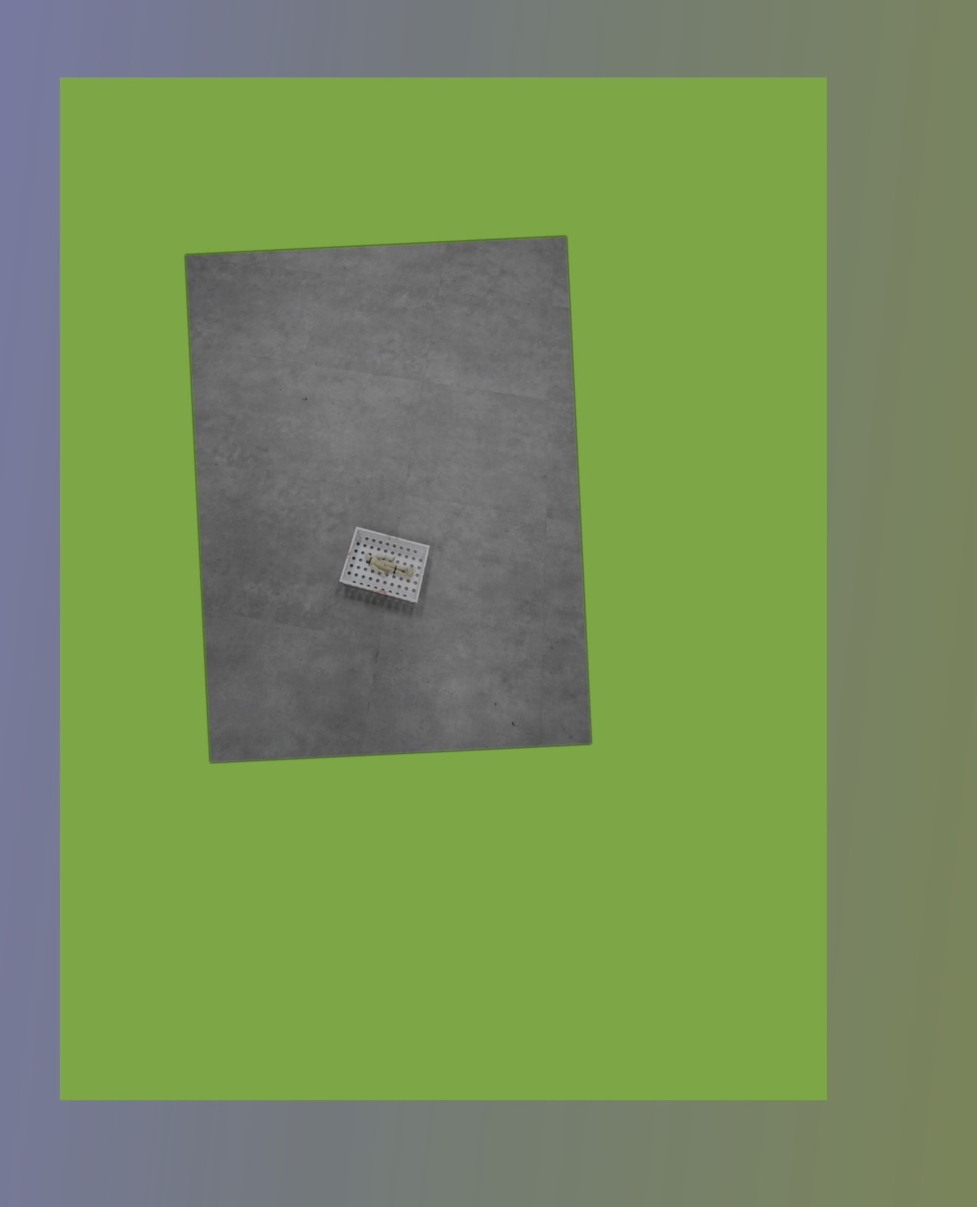basket: (336, 525, 433, 607)
mannequin: (362, 551, 415, 580)
